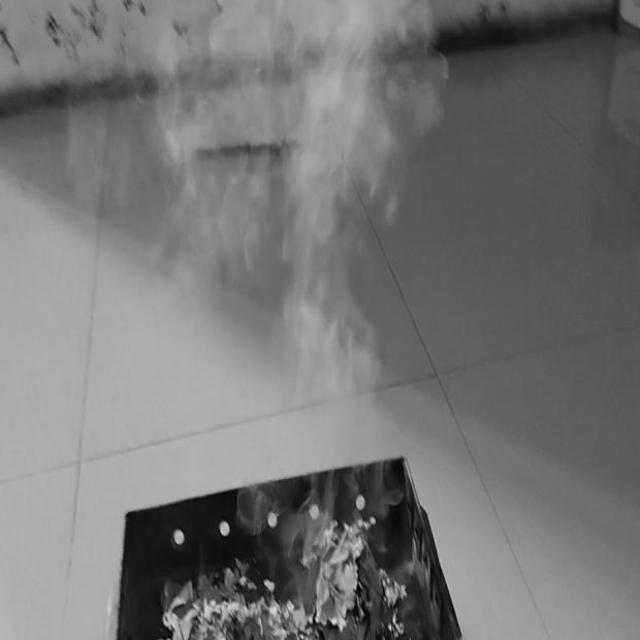fire: (131, 0, 428, 266), (233, 266, 387, 548)
